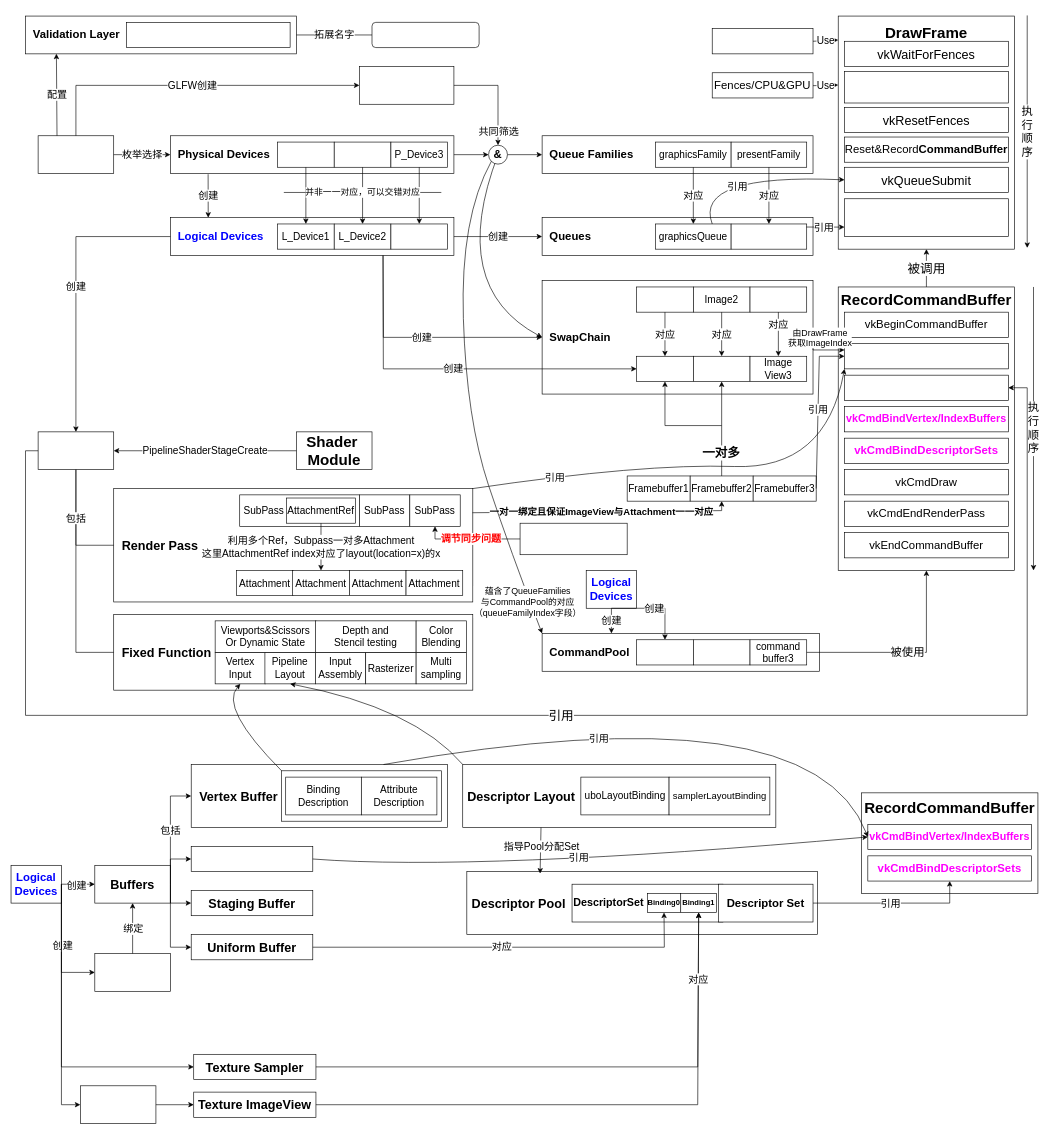
Some shapes in this 1050 by 1135 pixel diagram are drawn without their labels. Here are the shapes that lost their labels. From the top down, the centre of each, then its label:
pixel 208 35: VK_LAYER_KHRONOS_validation
pixel 425 35: VK_EXT_debug_utils
pixel 762 41: Semaphores/GPU
pixel 406 85: WindowSurface
pixel 926 87: vkAcquireNextImageKHR (recreateSwapChain if nec)
pixel 75 154: Instance
pixel 305 154: P_Device1
pixel 362 154: P_Device2
pixel 419 236: L_Device3
pixel 768 236: presentQueue
pixel 926 217: vkQueuePresentKHR (recreateSwapChain if nec)
pixel 664 299: Image1
pixel 778 299: Image3
pixel 664 368: Image View1
pixel 721 368: Image View2
pixel 926 356: vkCmdBeginRenderPass
pixel 926 387: vkCmdBindPipeline
pixel 75 450: Pipeline
pixel 573 539: SubPass Dependency
pixel 664 652: command buffer1
pixel 721 652: command buffer2
pixel 252 859: Index Buffer
pixel 132 972: Device Memory
pixel 118 1104: ImageView
